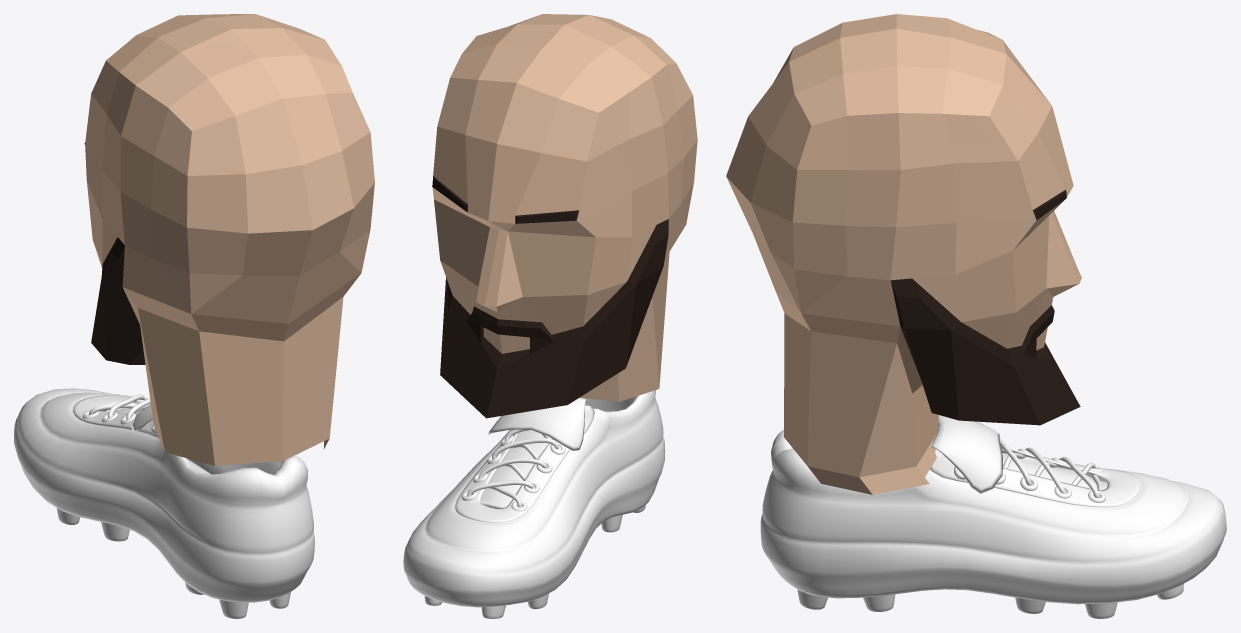
The model's file is jogadorIA.fbx.
3 views of the same model, side by side, from view 1: azimuth 30°, elevation 25°; view 2: azimuth 150°, elevation 25°; view 3: azimuth 270°, elevation 25° (orthographic). The views are drawn at different scales.
Visible parts, largest first — view 1: Object_3, Object_3.001; view 2: Object_3, Object_3.001; view 3: Object_3, Object_3.001.
Boxes of the visible parts, <box> form: Object_3: <box>84,14,374,465</box>; Object_3.001: <box>14,388,314,618</box>; Object_3: <box>432,14,697,418</box>; Object_3.001: <box>403,390,665,618</box>; Object_3: <box>726,14,1081,494</box>; Object_3.001: <box>760,415,1226,618</box>.
Size of the model in its own units: 76.93 by 181 by 143.
